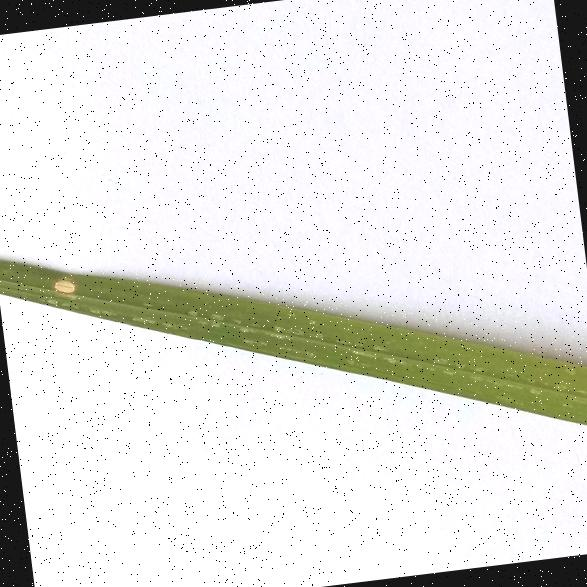Leaf_smut: (40, 266, 82, 299)
